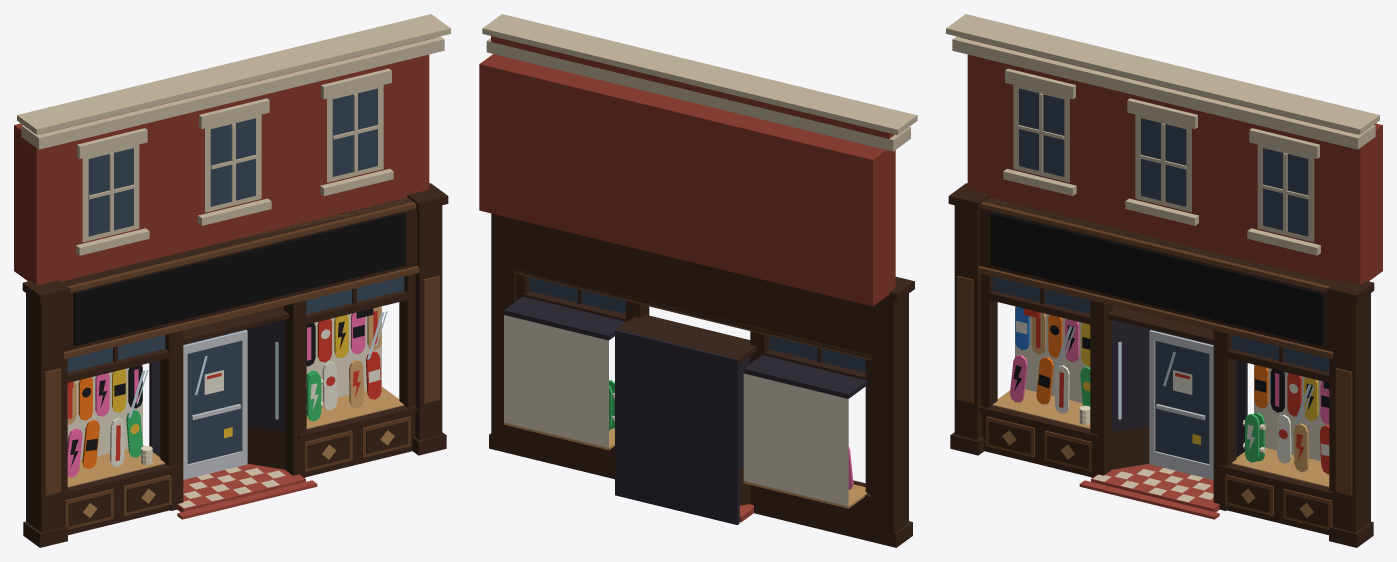
The model's file is skateshop.glb.
3 renders of one model, left to right at view 1: azimuth 30°, elevation 25°; view 2: azimuth 150°, elevation 25°; view 3: azimuth 330°, elevation 25°, orthographic.
Visible parts, largest first — view 1: SkateShop; view 2: SkateShop; view 3: SkateShop.
Boxes of the visible parts, x1,y1,x2,y2 form: SkateShop: (14, 14, 450, 547); SkateShop: (479, 14, 917, 547); SkateShop: (946, 14, 1382, 547).
Bounding box in the file's own units: 9.5 × 9.2 × 1.57.
